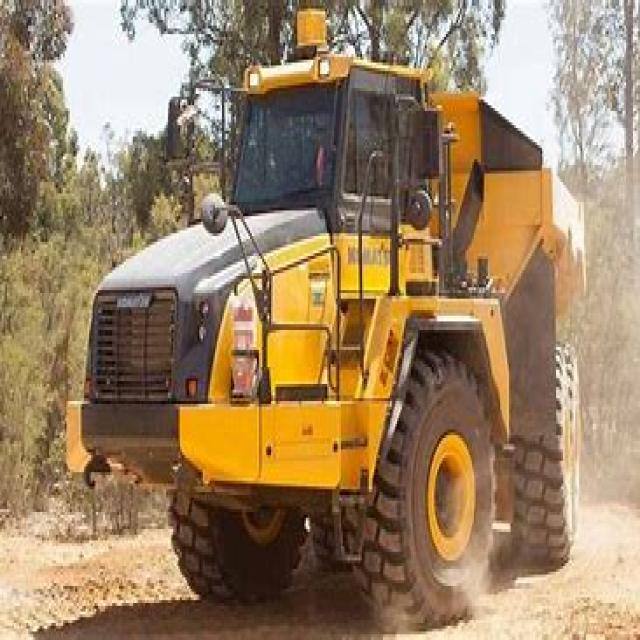dump_truck: (58, 26, 591, 620)
